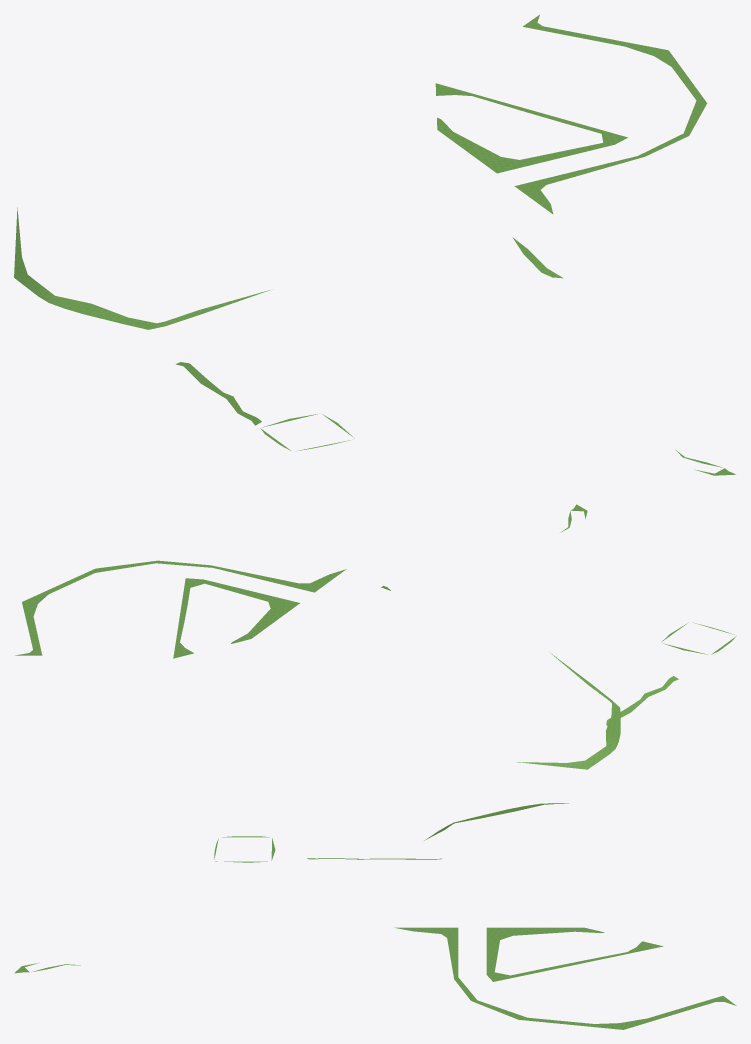
Rendered from kd_stage_1364a3_11_14_bounded.glb.
The picture shows the model from 3 angles, top to bottom: view 1: azimuth 30°, elevation 25°; view 2: azimuth 150°, elevation 25°; view 3: azimuth 270°, elevation 25°; orthographic projection. The views are drawn at different scales.
Visible parts, largest first — view 1: kd_stage_1364a3_11_14_bounded; view 2: kd_stage_1364a3_11_14_bounded; view 3: kd_stage_1364a3_11_14_bounded.
Boxes of the visible parts, bbox=[...] form: kd_stage_1364a3_11_14_bounded: bbox=[14, 14, 735, 475]; kd_stage_1364a3_11_14_bounded: bbox=[15, 504, 736, 769]; kd_stage_1364a3_11_14_bounded: bbox=[14, 803, 736, 1029].
Size of the model in its own units: 126 by 15.56 by 143.
1 material, 1 textured.
